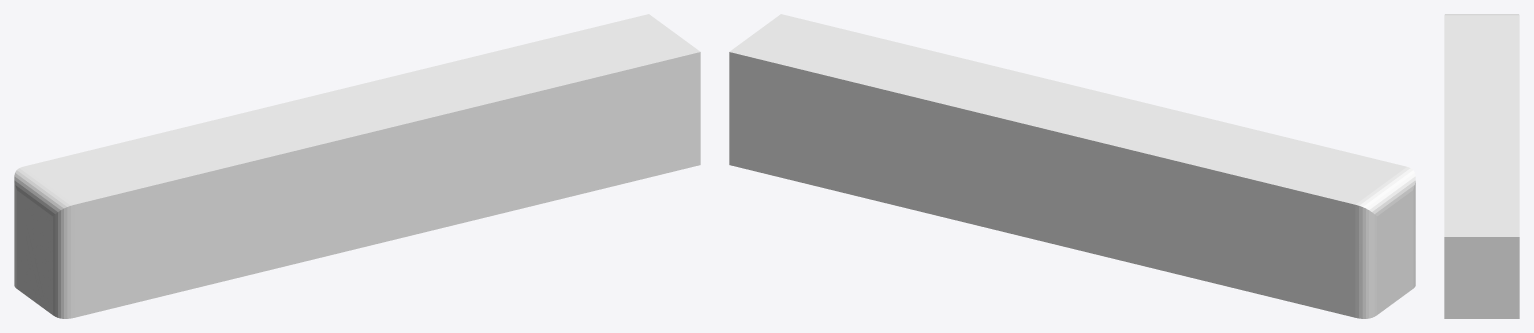
File: piano_white_key.obj
3 views of the same model, side by side, from view 1: azimuth 30°, elevation 25°; view 2: azimuth 150°, elevation 25°; view 3: azimuth 270°, elevation 25° (orthographic). The views are drawn at different scales.
Parts seen in each view (by area): view 1: BabyGrandPiano1.003_BabyGrandPiano1.189; view 2: BabyGrandPiano1.003_BabyGrandPiano1.189; view 3: BabyGrandPiano1.003_BabyGrandPiano1.189.
Part boxes in pixels (x1=…): BabyGrandPiano1.003_BabyGrandPiano1.189: x1=14, y1=14, x2=700, y2=318; BabyGrandPiano1.003_BabyGrandPiano1.189: x1=729, y1=14, x2=1415, y2=318; BabyGrandPiano1.003_BabyGrandPiano1.189: x1=1444, y1=14, x2=1519, y2=318.
Bounding box in the file's own units: 5.98 × 1.01 × 0.8397.
1 material, 1 textured.
